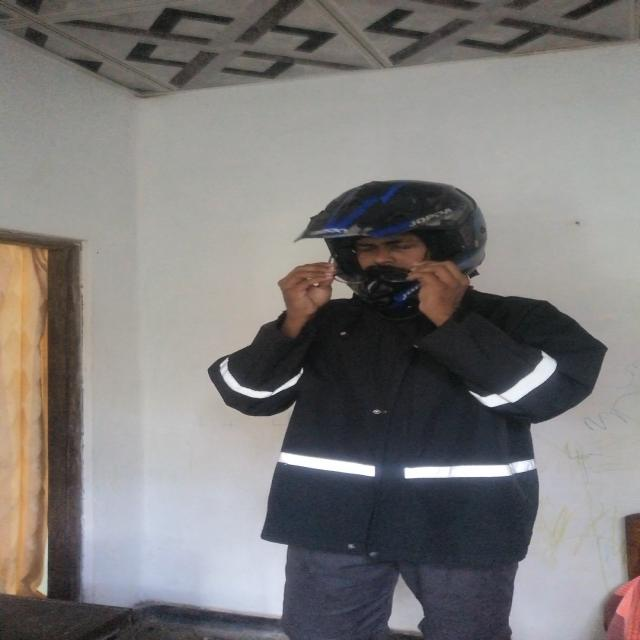Helmet_Wearer: (284, 174, 502, 300)
Jacket_Wearer: (211, 277, 630, 549)
